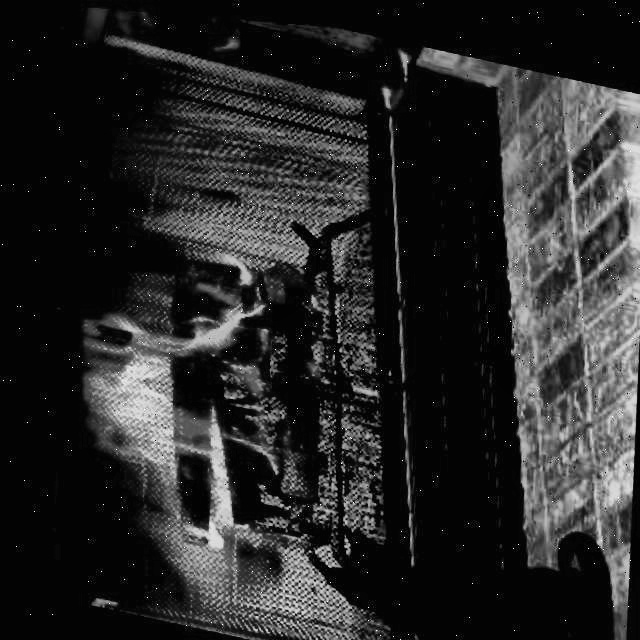Fire: (35, 216, 338, 559)
